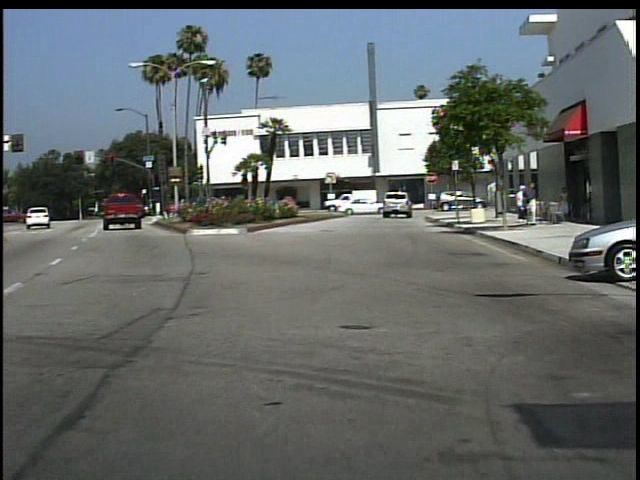person: (522, 180, 539, 226), (370, 190, 391, 218), (556, 184, 570, 223), (512, 182, 524, 221)
